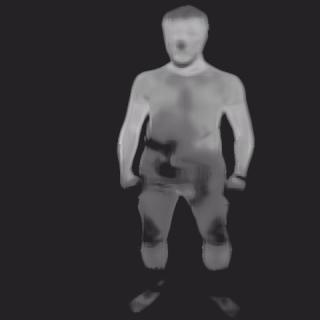Gun: (143, 136, 180, 180)
